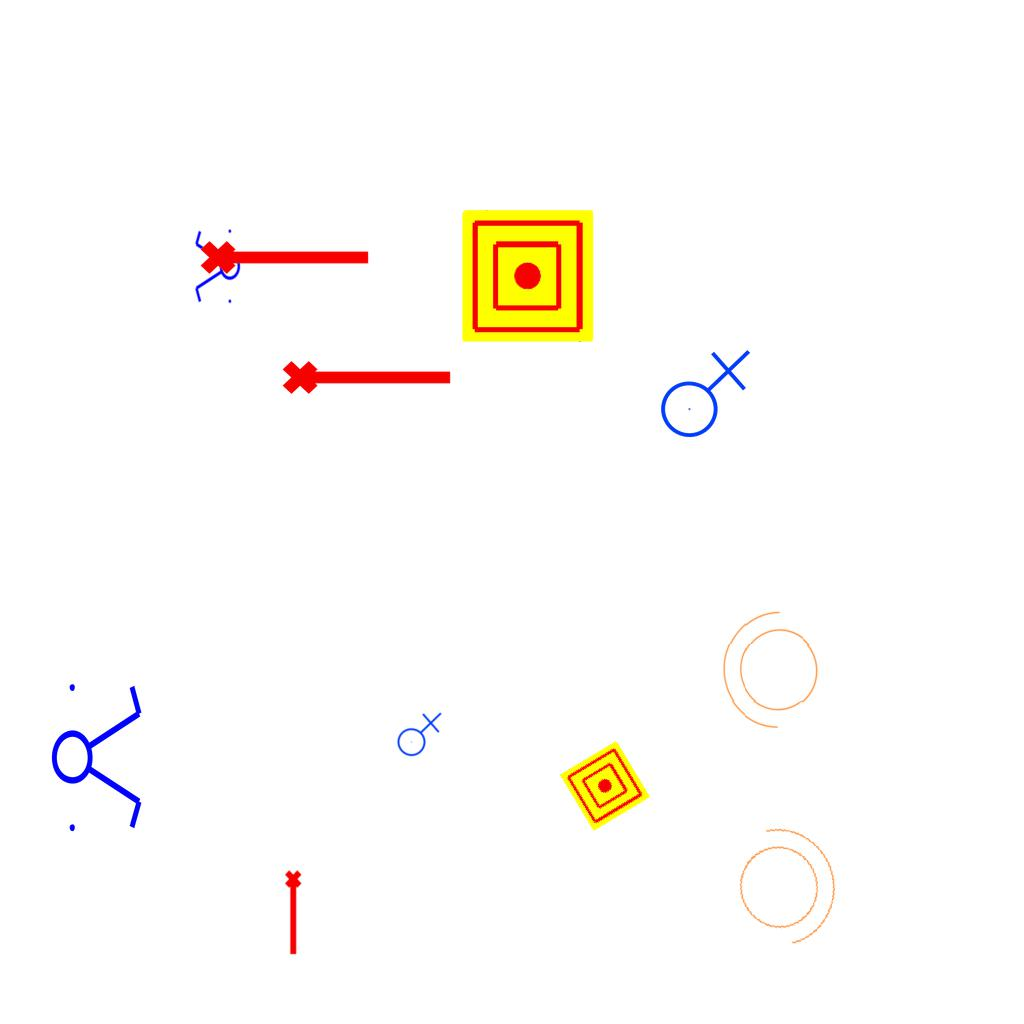ASR_Ansaugoeffnung: (280, 352, 456, 398), (198, 232, 374, 278), (283, 869, 306, 957)
Elektroanschluss_allgemein_230V_Geraeteanschlussdose_230V: (652, 345, 751, 439), (393, 710, 442, 757)
NAM-Nichtautomatischer_Melder: (462, 210, 594, 342), (559, 740, 651, 832)
Scheinwerfer_fuer_Alarmbeleuchtung: (713, 806, 853, 960), (716, 606, 832, 740)
Serienschalter: (50, 672, 146, 840), (193, 225, 241, 309)
